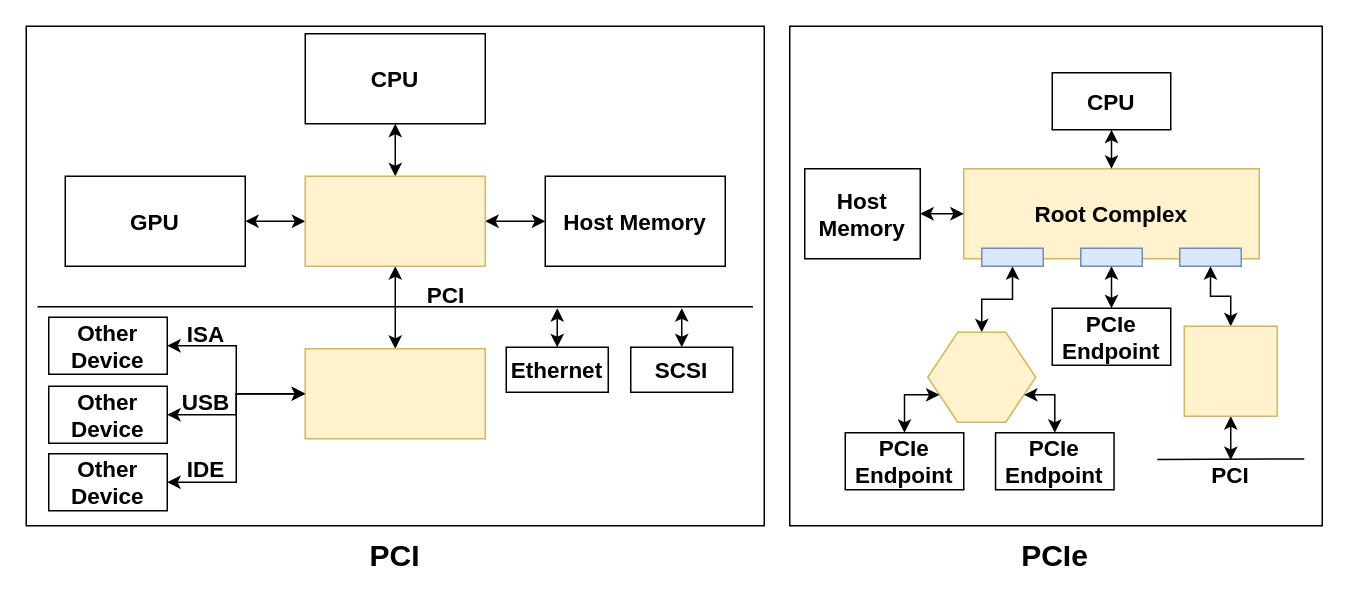
This 1349x599 diagram has some shape labels left out. Here are the shapes that lost their labels. From the top down, the centre of each, then its label:
point 394,220: North Bridge
point 981,376: PCIe Switch
point 1230,370: PCIe to PCI Bridge
point 394,393: South Bridge
